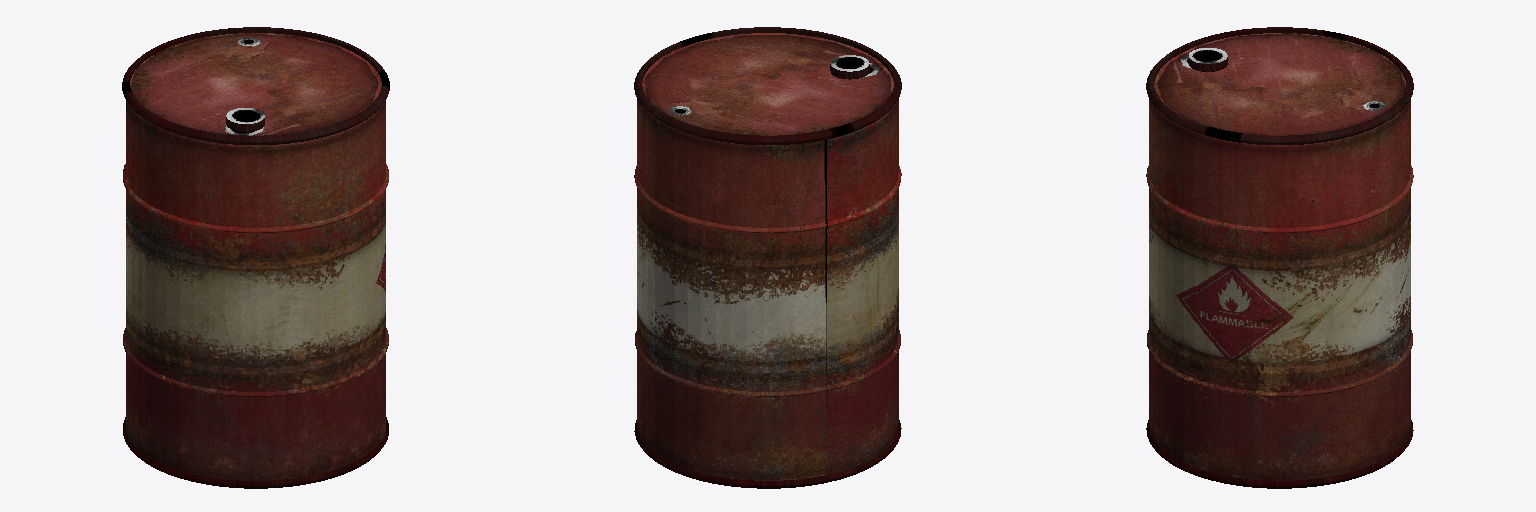
3 views of the same model, side by side, from view 1: azimuth 30°, elevation 25°; view 2: azimuth 150°, elevation 25°; view 3: azimuth 270°, elevation 25° (orthographic).
Parts seen in each view (by area): view 1: Barrel_Untitled.001; view 2: Barrel_Untitled.001; view 3: Barrel_Untitled.001.
Boxes of the visible parts, x1,y1,x2,y2 form: Barrel_Untitled.001: [122, 27, 389, 488]; Barrel_Untitled.001: [634, 27, 901, 488]; Barrel_Untitled.001: [1146, 27, 1413, 488].
Size of the model in its own units: 2.29 by 3.35 by 2.29.
Materials: 1 (1 with a texture image).